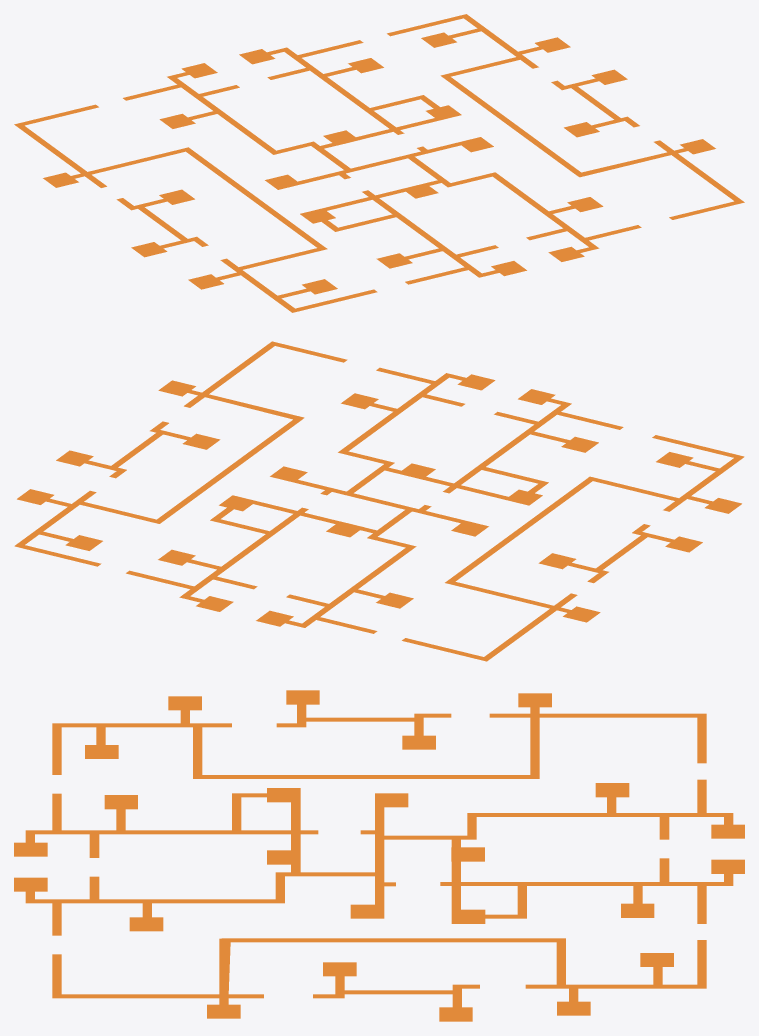
File: Target_Points - Copy.fbx
The picture shows the model from 3 angles, top to bottom: view 1: azimuth 30°, elevation 25°; view 2: azimuth 150°, elevation 25°; view 3: azimuth 270°, elevation 25°; orthographic projection. The views are drawn at different scales.
Visible parts, largest first — view 1: Target_Points.001; view 2: Target_Points.001; view 3: Target_Points.001.
Boxes of the visible parts, x1,y1,x2,y2 form: Target_Points.001: (14, 14, 744, 312); Target_Points.001: (14, 341, 744, 661); Target_Points.001: (14, 690, 744, 1021).
Bounding box in the file's own units: 4376 × 0 × 4081.
